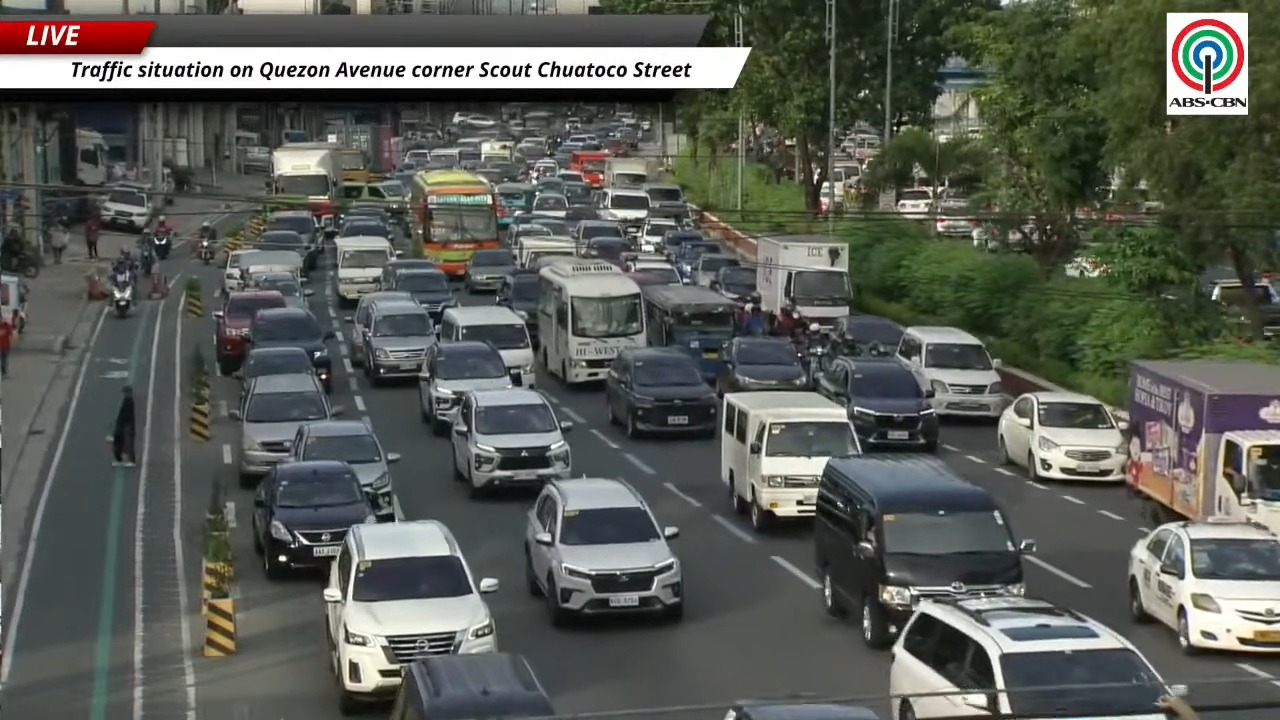bus: (537, 257, 646, 384), (410, 169, 500, 276), (337, 147, 371, 183)
car: (813, 453, 1034, 649), (889, 597, 1186, 719), (323, 520, 498, 714), (524, 477, 683, 625), (1128, 518, 1279, 653), (251, 460, 374, 578), (451, 388, 572, 496), (229, 373, 342, 487), (997, 391, 1128, 481), (815, 357, 938, 452), (387, 653, 555, 719), (291, 420, 400, 520), (896, 326, 1008, 418), (605, 348, 717, 437), (419, 341, 514, 436), (438, 306, 536, 386), (248, 307, 335, 392), (361, 300, 436, 384), (213, 290, 287, 375), (715, 337, 809, 394), (344, 290, 411, 366), (386, 268, 457, 323), (235, 347, 313, 394), (263, 210, 320, 271), (495, 270, 539, 346), (832, 314, 904, 355), (724, 702, 878, 719), (254, 230, 314, 272), (99, 187, 154, 232), (672, 236, 723, 283), (464, 248, 516, 293), (248, 273, 313, 308), (507, 212, 563, 246), (378, 258, 438, 289), (709, 265, 756, 300), (221, 249, 256, 294), (264, 210, 316, 240), (692, 254, 740, 286), (578, 238, 631, 264), (337, 216, 393, 240), (626, 260, 682, 284), (662, 228, 704, 258), (571, 220, 625, 242), (343, 203, 393, 225), (563, 204, 599, 234), (508, 223, 553, 246), (531, 191, 568, 217), (641, 183, 685, 203), (530, 214, 569, 235), (562, 182, 593, 206), (535, 177, 563, 193), (556, 170, 584, 182)
motorcycle: (112, 272, 134, 317), (0, 252, 39, 277), (151, 232, 171, 260), (139, 248, 155, 276), (199, 238, 214, 264)
truck: (1122, 359, 1279, 532), (755, 234, 852, 326), (268, 142, 341, 232), (75, 129, 109, 186), (605, 157, 655, 188), (480, 140, 514, 162)
